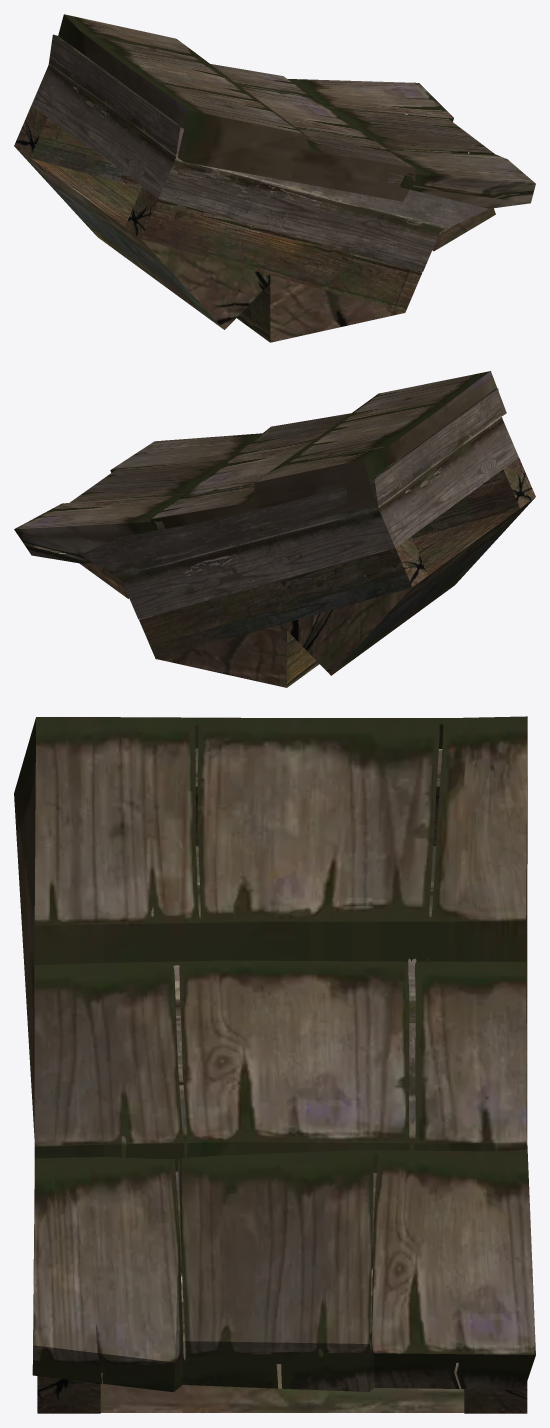
3 renders of one model, top to bottom at view 1: azimuth 30°, elevation 25°; view 2: azimuth 150°, elevation 25°; view 3: azimuth 270°, elevation 25°, orthographic. The views are drawn at different scales.
Visible parts, largest first — view 1: SM_T1_Roof_Small_Shallow_LOD0; view 2: SM_T1_Roof_Small_Shallow_LOD0; view 3: SM_T1_Roof_Small_Shallow_LOD0.
Boxes of the visible parts, box(x1,y1,x2,y2) form: SM_T1_Roof_Small_Shallow_LOD0: box(14, 14, 535, 342); SM_T1_Roof_Small_Shallow_LOD0: box(14, 371, 535, 687); SM_T1_Roof_Small_Shallow_LOD0: box(14, 716, 535, 1413).
Size of the model in its own units: 1.39 by 0.8427 by 0.8032.
3 materials, 3 textured.
